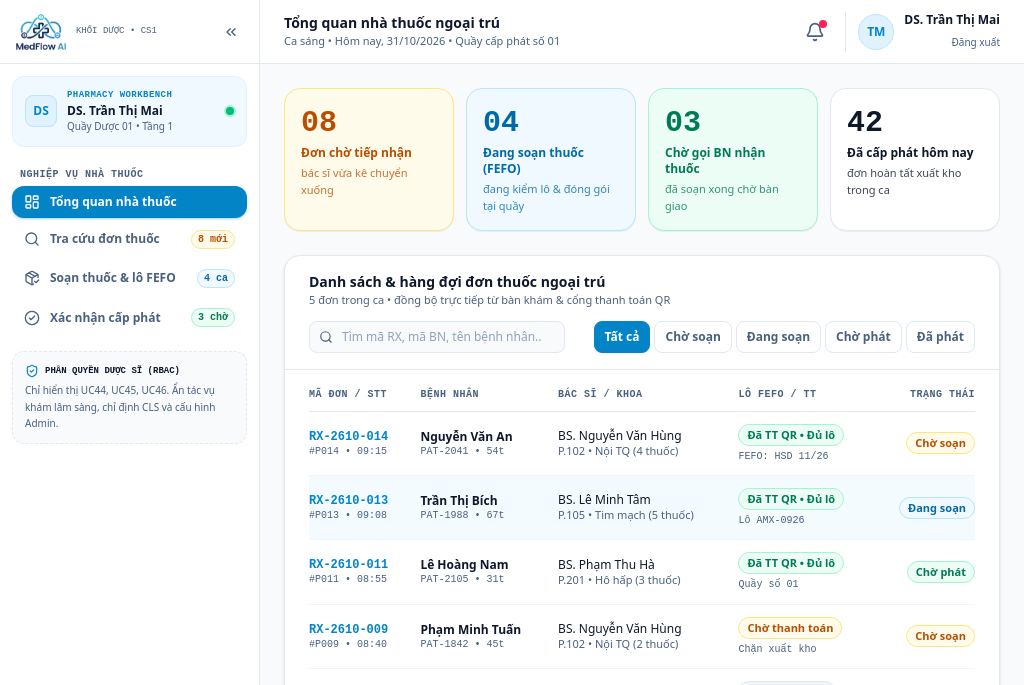
Test case: PharmacyDashboardPage › loc danh sach don thuoc theo trang thai, tu khoa tim kiem va hien thi empty state khi khong khop
# Lọc theo trạng thái "Chờ phát" (READY)
Click the button "Chờ phát": (863, 336) [825, 320, 902, 352]
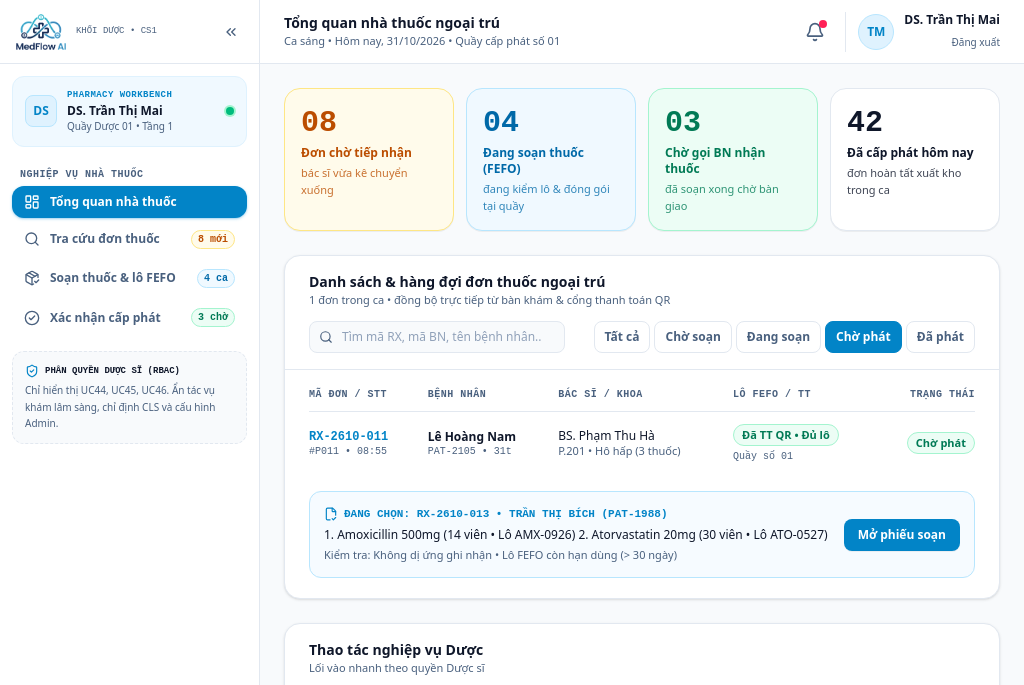
Expected: the text "Lê Hoàng Nam" is shown, [428, 428, 516, 445]
Now the text "Nguyễn Văn An" is gone
# Đổi về "Tất cả" và tìm theo mã đơn RX-2610-009
Click the button "Tất cả": (622, 336) [594, 320, 650, 352]
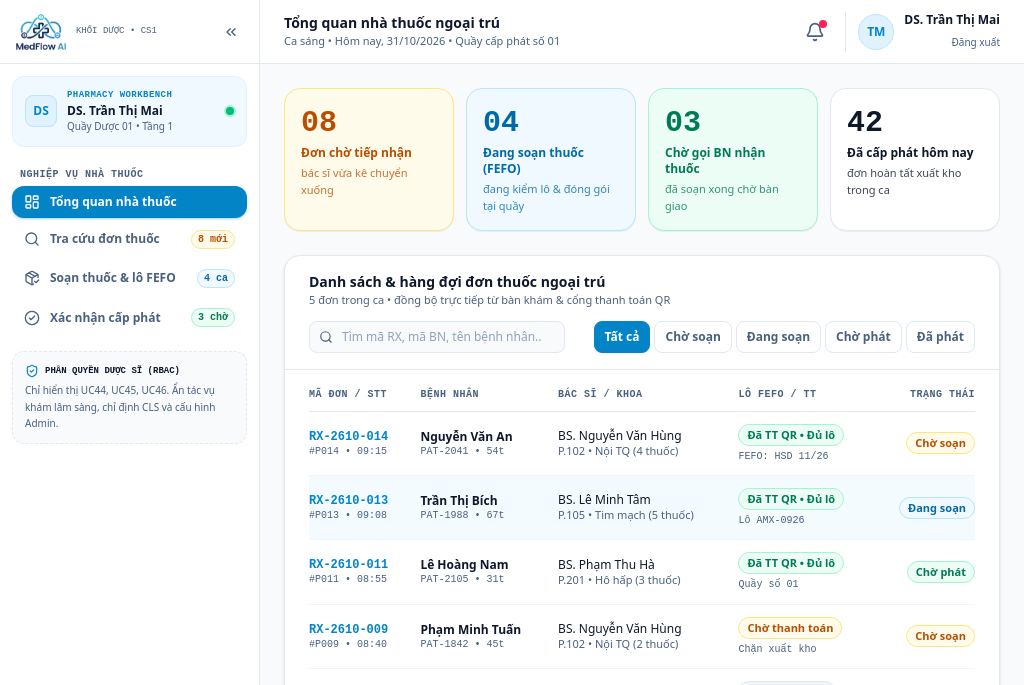
In the search field named "Tìm kiếm đơn thuốc": (437, 336) [309, 320, 565, 352], type "RX-2610-009"
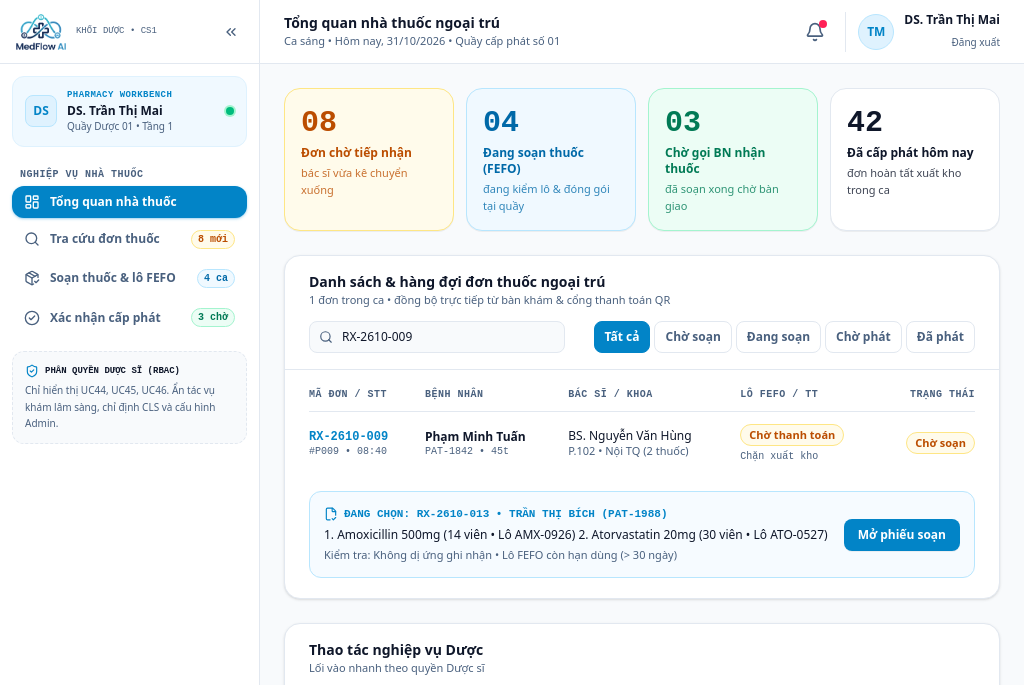
Now the text "Phạm Minh Tuấn" is shown, box [425, 428, 526, 445]
Now the text "Nguyễn Văn An" is gone
# Tìm kiếm từ khóa không tồn tại → hiển thị empty state
Replace the text in the search field named "Tìm kiếm đơn thuốc" with "RX-KHONG-TON-TAI-999": (437, 336) [309, 320, 565, 352]
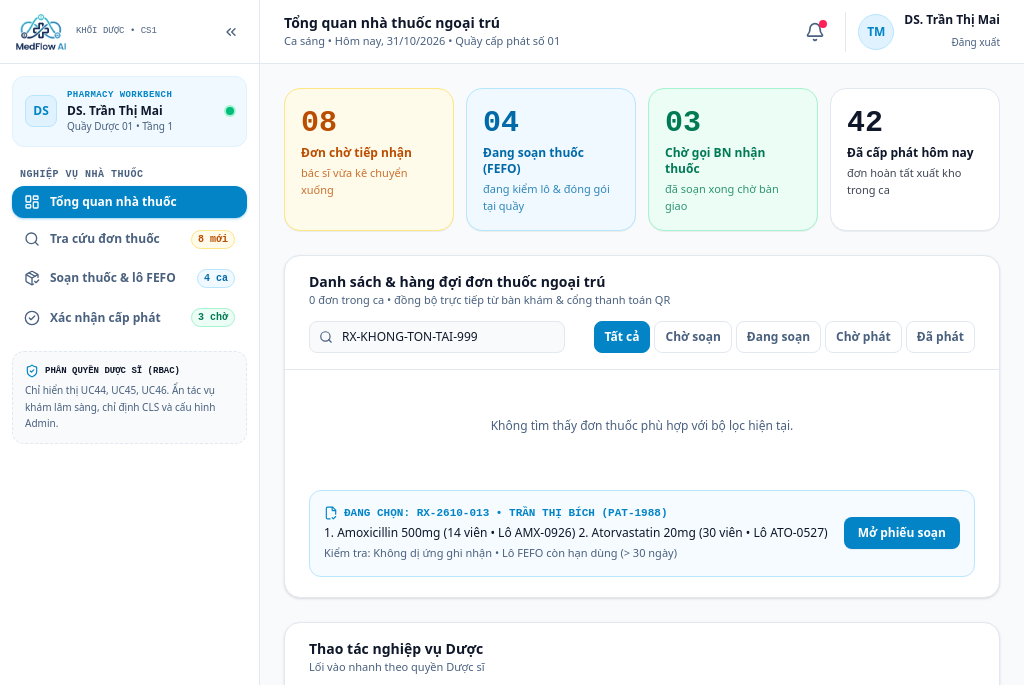
Now the text "Không tìm thấy đơn thuốc phù hợp với bộ lọc hiện tại." is shown, box [491, 416, 793, 434]
